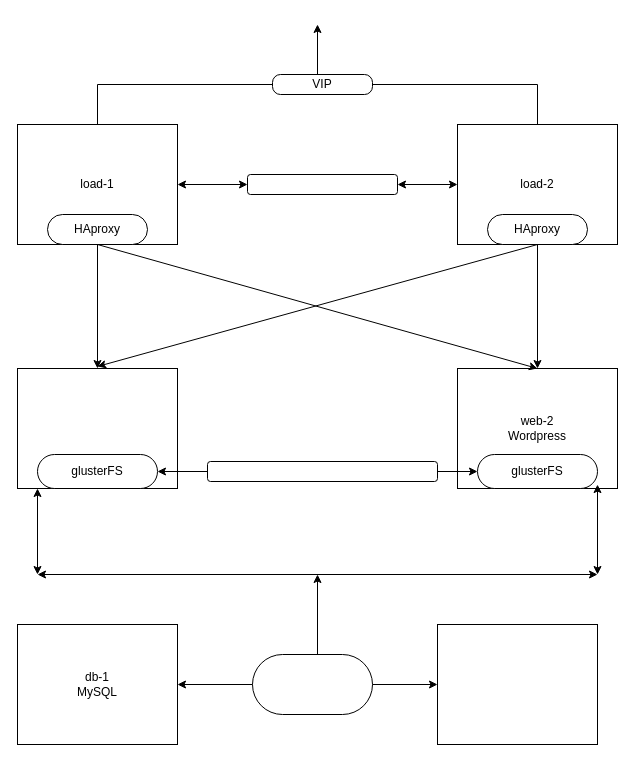
Image size: 635x762. Some labels were removed from this diagram. The box of each missing label's shape, as (x1, y1, x2, y2) in pixels:
db-2 MySQL: (436, 624, 598, 744)
glusterFS storage - wordpress: (206, 460, 438, 482)
heatbeat: (246, 174, 398, 194)
Master-Master Replicate: (252, 654, 372, 714)
web-1 Wordpress: (16, 368, 178, 488)
